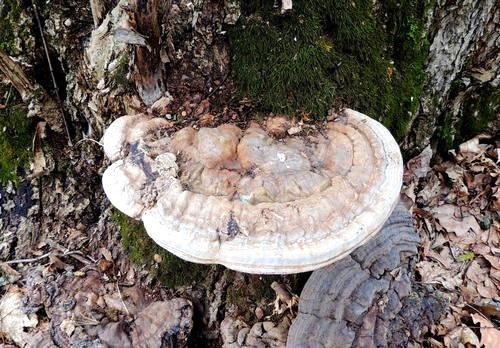Ganoderma - Fruit Body: (101, 106, 408, 277)
